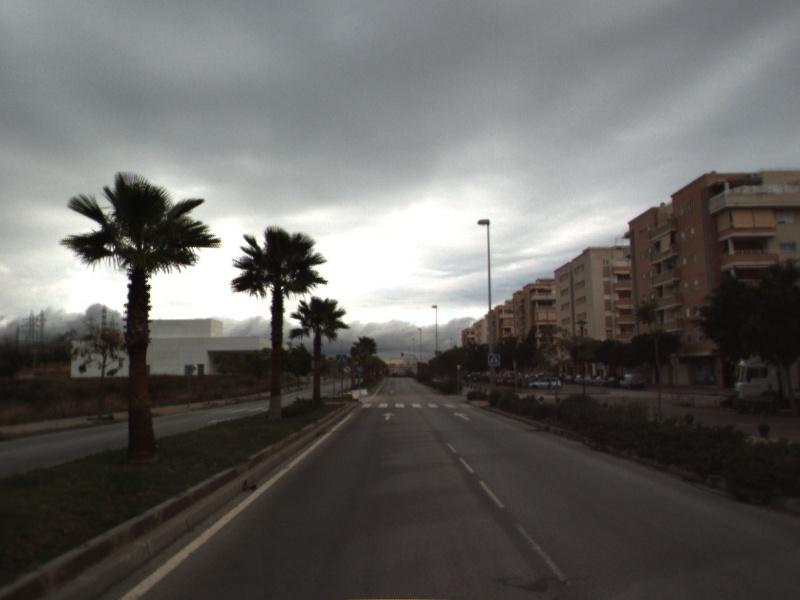STRAIGHT: (451, 410, 473, 422), (380, 410, 397, 422)
